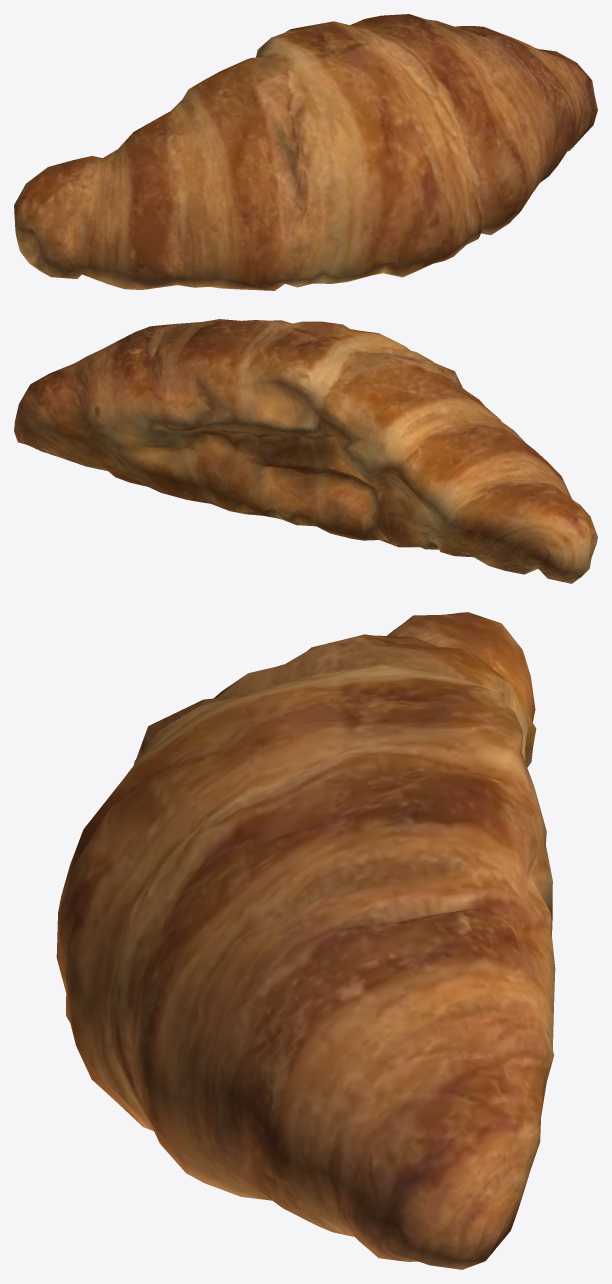
File: croissant.glb
The picture shows the model from 3 angles, top to bottom: view 1: azimuth 30°, elevation 25°; view 2: azimuth 150°, elevation 25°; view 3: azimuth 270°, elevation 25°; orthographic projection. The views are drawn at different scales.
Parts seen in each view (by area): view 1: croissant; view 2: croissant; view 3: croissant.
Boxes of the visible parts, bbox=[...] form: croissant: bbox=[14, 14, 597, 290]; croissant: bbox=[14, 319, 597, 583]; croissant: bbox=[56, 612, 555, 1269].
Bounding box in the file's own units: 0.2 × 0.062 × 0.0755.
1 material, 1 textured.
